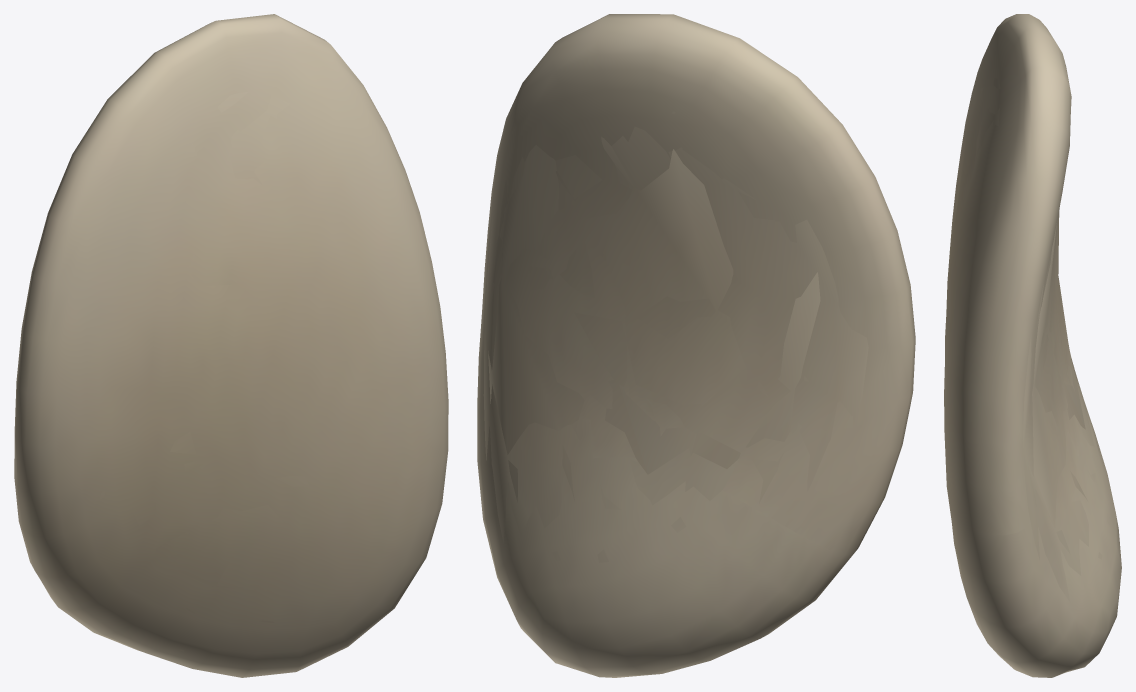
File: R Patella.fbx
The picture shows the model from 3 angles, left to right: view 1: azimuth 30°, elevation 25°; view 2: azimuth 150°, elevation 25°; view 3: azimuth 270°, elevation 25°; orthographic projection. The views are drawn at different scales.
Parts seen in each view (by area): view 1: R Patella high, R Patella; view 2: R Patella high, R Patella, R Patella low; view 3: R Patella high, R Patella, R Patella low.
Boxes of the visible parts, x1=… form: R Patella high: x1=14, y1=14, x2=448, y2=677; R Patella: x1=100, y1=91, x2=358, y2=651; R Patella high: x1=477, y1=14, x2=915, y2=677; R Patella: x1=483, y1=111, x2=868, y2=562; R Patella low: x1=488, y1=136, x2=820, y2=502; R Patella high: x1=944, y1=14, x2=1121, y2=677; R Patella: x1=955, y1=78, x2=1110, y2=602; R Patella low: x1=1028, y1=212, x2=1087, y2=554.
Size of the model in its own units: 2.15 by 3.17 by 0.842.
